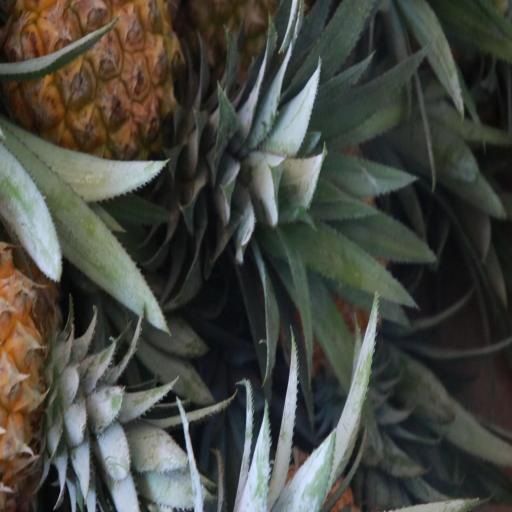Pineapple - v8 v1: (5, 0, 206, 174)
